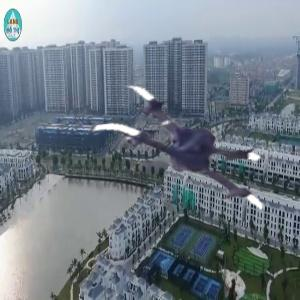drone: (85, 71, 271, 257)
